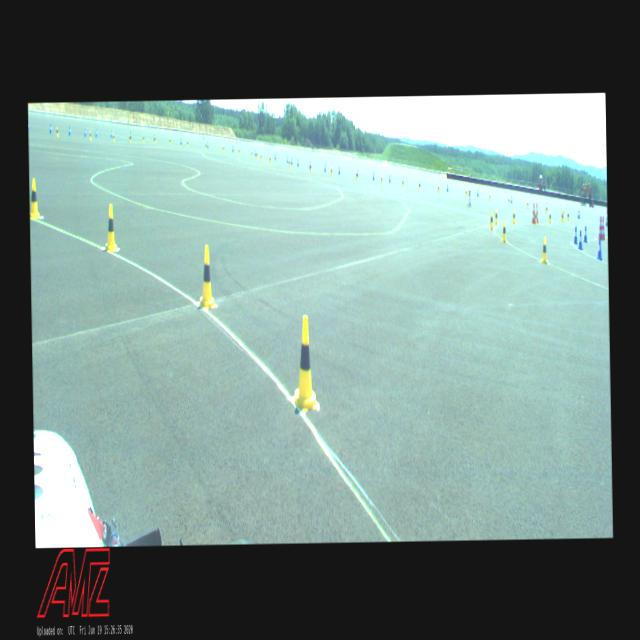blue_cone: (596, 238, 602, 260), (577, 230, 582, 250), (573, 226, 577, 244), (583, 225, 587, 242), (388, 174, 391, 182), (605, 216, 607, 226), (372, 170, 374, 180), (68, 126, 70, 135), (95, 128, 97, 137), (290, 156, 292, 165), (324, 163, 326, 172), (510, 194, 512, 203), (49, 124, 51, 132), (577, 210, 579, 218), (110, 129, 112, 137), (254, 148, 256, 156), (274, 152, 276, 160), (286, 155, 288, 163), (296, 158, 298, 166), (308, 160, 310, 168), (338, 166, 340, 174), (446, 184, 448, 192), (476, 188, 478, 196), (130, 132, 132, 138), (180, 138, 182, 144), (28, 121, 29, 131), (84, 127, 85, 136), (357, 169, 358, 177), (419, 178, 420, 186), (207, 141, 208, 148), (232, 145, 233, 152), (154, 134, 154, 141)
large_orange_cone: (598, 216, 602, 240), (531, 202, 535, 224), (602, 216, 604, 239), (536, 202, 538, 223)
yellow_cone: (290, 315, 318, 411), (196, 246, 216, 308), (104, 203, 118, 251), (29, 178, 41, 218), (540, 237, 548, 264), (501, 220, 506, 243), (493, 208, 498, 224), (489, 212, 493, 230), (511, 208, 515, 224), (548, 210, 551, 223), (488, 192, 491, 201), (560, 210, 562, 222), (534, 210, 536, 222), (566, 210, 568, 220), (56, 126, 58, 136), (544, 204, 546, 214), (89, 130, 91, 140), (112, 132, 114, 142), (310, 162, 312, 172), (356, 170, 358, 180), (380, 174, 382, 184), (464, 188, 466, 198), (436, 184, 438, 193), (330, 167, 332, 176), (255, 152, 258, 158), (402, 178, 404, 187), (418, 181, 420, 190), (508, 196, 510, 205), (526, 200, 528, 208), (142, 134, 144, 142), (169, 136, 171, 144), (288, 160, 290, 168), (129, 135, 131, 142), (154, 136, 156, 143), (205, 142, 207, 149), (222, 145, 224, 152), (238, 148, 240, 155), (250, 150, 252, 157), (268, 156, 270, 163), (186, 140, 188, 146), (260, 154, 262, 160)
